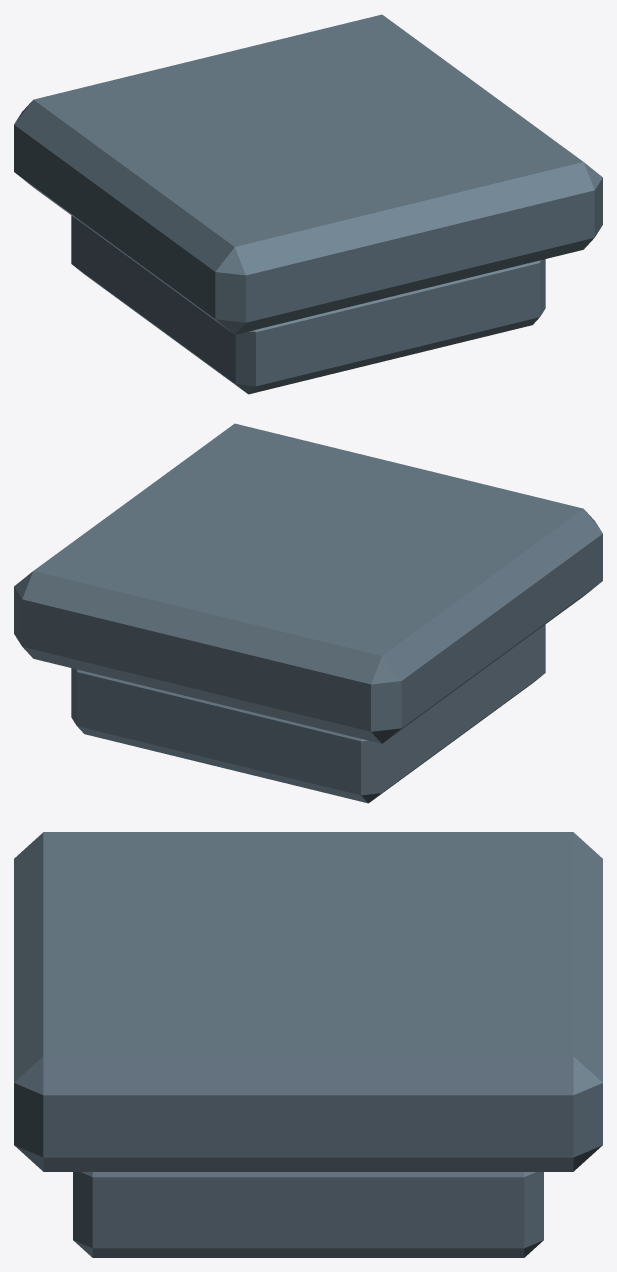
Rendered from A11_Column_Capital.fbx.
3 views of the same model, one above another, from view 1: azimuth 30°, elevation 25°; view 2: azimuth 150°, elevation 25°; view 3: azimuth 270°, elevation 25° (orthographic). The views are drawn at different scales.
Visible parts, largest first — view 1: A11_Column_Capital; view 2: A11_Column_Capital; view 3: A11_Column_Capital.
Part boxes in pixels (x1,y1,x2,y2): A11_Column_Capital: (14,14,602,394); A11_Column_Capital: (14,423,602,803); A11_Column_Capital: (14,832,602,1257).
Size of the model in its own units: 0.6 by 0.25 by 0.6.
1 material, 1 textured.
